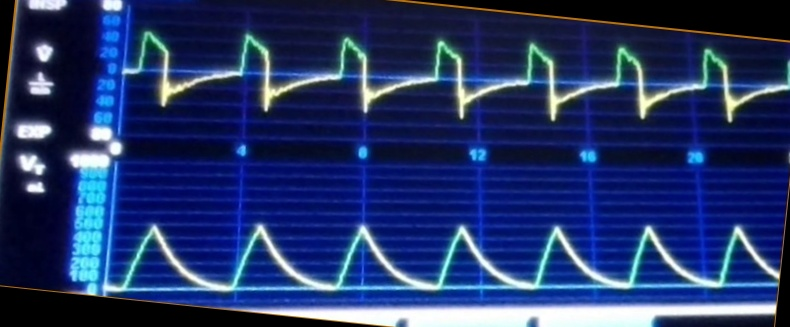Accumulation Flow: (128, 28, 757, 141)
Volume: (114, 195, 776, 298)
